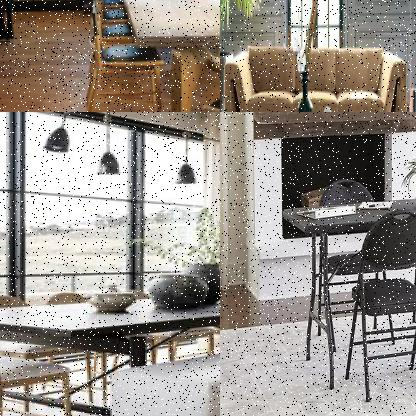table: (0, 279, 219, 415), (279, 185, 415, 395), (112, 0, 219, 111)
